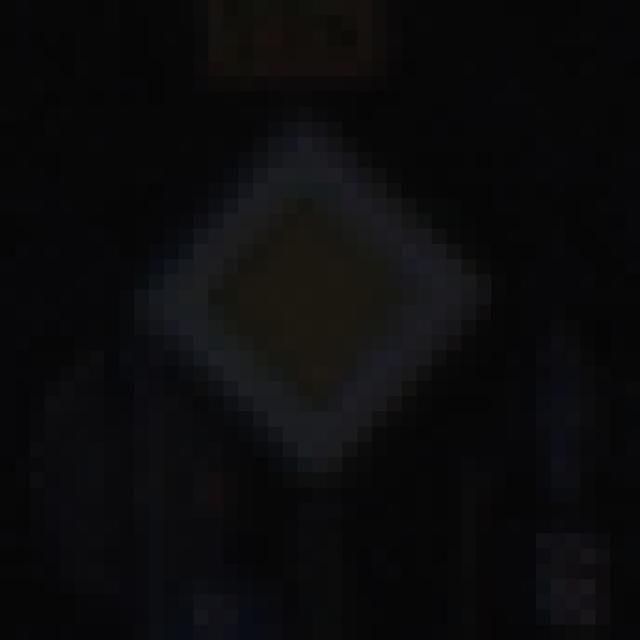Main Road: (90, 77, 567, 565)
